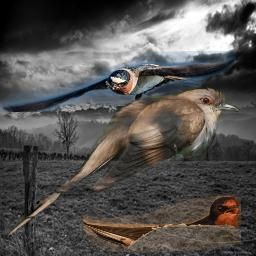Cuckoo: (7, 86, 241, 237)
Swallow: (0, 51, 236, 112), (83, 195, 241, 252)
